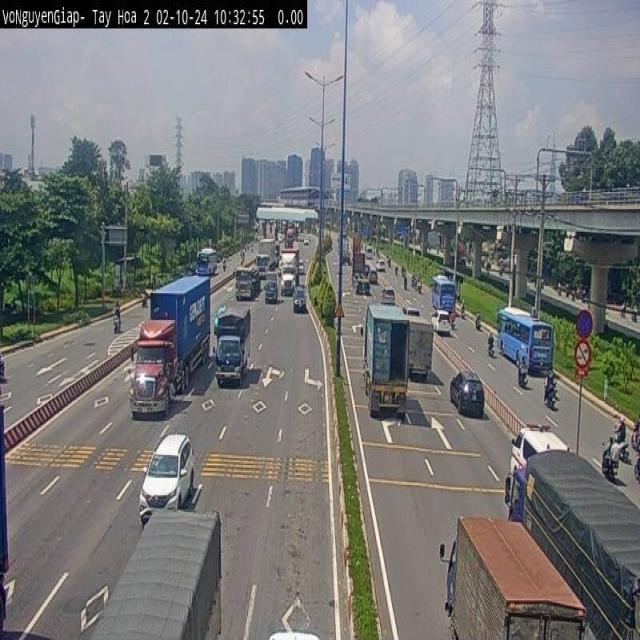bus: (493, 285, 563, 384), (429, 263, 463, 322)
car: (133, 426, 206, 526), (510, 414, 566, 460), (448, 371, 490, 426), (291, 281, 318, 318), (261, 273, 282, 310)
container-truck: (129, 279, 218, 426), (365, 299, 421, 433), (347, 240, 373, 298), (278, 248, 302, 298)
motorcycle: (600, 454, 624, 484), (543, 391, 561, 418), (610, 436, 632, 458), (110, 318, 127, 345), (514, 364, 530, 391), (486, 336, 499, 360)
person: (614, 405, 628, 437), (518, 340, 529, 372), (608, 426, 616, 468), (114, 300, 122, 330), (488, 326, 495, 342)
truck: (507, 446, 639, 640), (432, 510, 577, 640), (90, 512, 223, 640), (212, 308, 254, 404), (403, 300, 440, 392), (234, 258, 264, 302), (191, 246, 222, 278)
